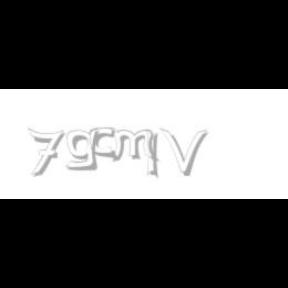7: (29, 128, 66, 178)
I: (146, 128, 160, 180)
V: (160, 128, 208, 176)
c: (90, 128, 118, 160)
g: (66, 128, 102, 171)
m: (108, 128, 160, 162)
